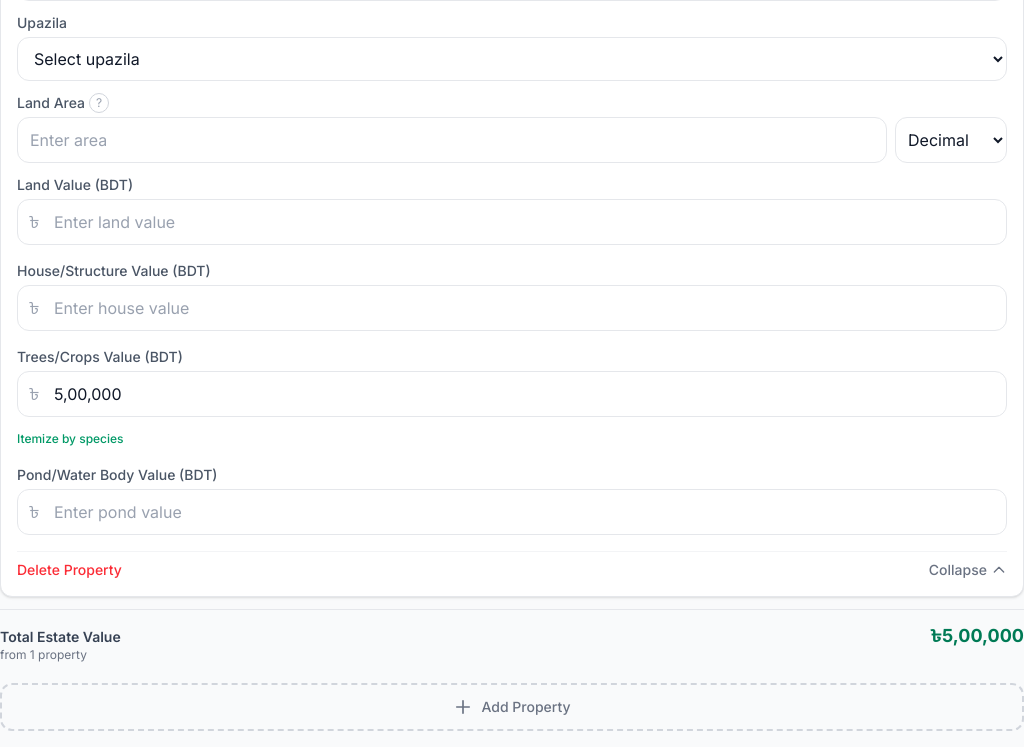
Scenario: PROP-04: Tree/crop details › itemize toggle shows species rows
(page scrolled)
Click the button "Itemize by species" at (70, 439), box [17,431,124,447]
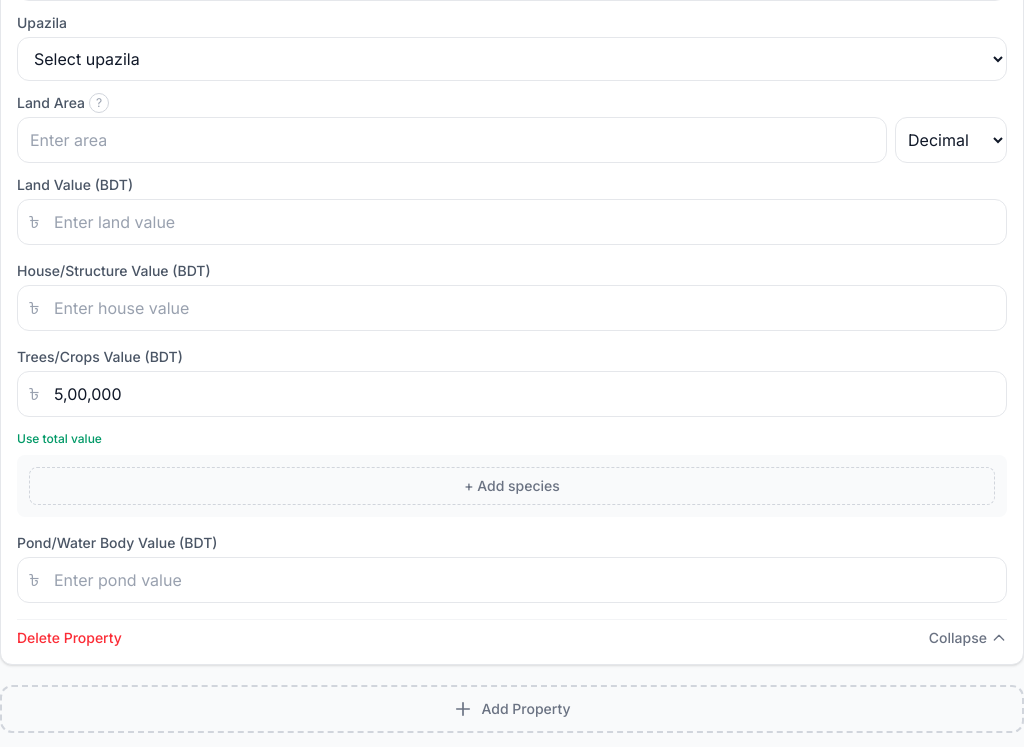
Expected: the button "+ Add species" is shown, [29,467,995,505]
